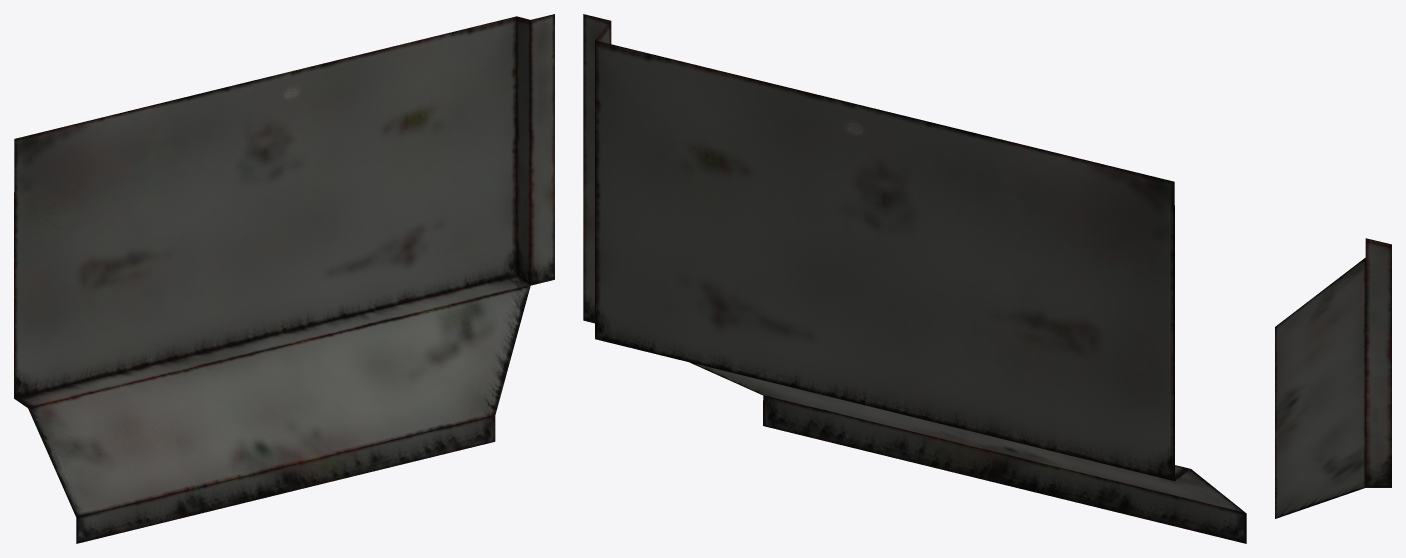
File: AngeledTunnel Wall_noHatch.fbx
3 renders of one model, left to right at view 1: azimuth 30°, elevation 25°; view 2: azimuth 150°, elevation 25°; view 3: azimuth 270°, elevation 25°, orthographic. The views are drawn at different scales.
Visible parts, largest first — view 1: Wall_noHatch.001; view 2: Wall_noHatch.001; view 3: Wall_noHatch.001.
Boxes of the visible parts, x1=… form: Wall_noHatch.001: x1=14, y1=14, x2=554, y2=543; Wall_noHatch.001: x1=583, y1=14, x2=1246, y2=543; Wall_noHatch.001: x1=1275, y1=238, x2=1391, y2=518.
Size of the model in its own units: 205 by 1000 by 664.
